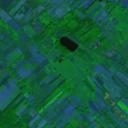alloviz: (58, 34, 79, 52)
